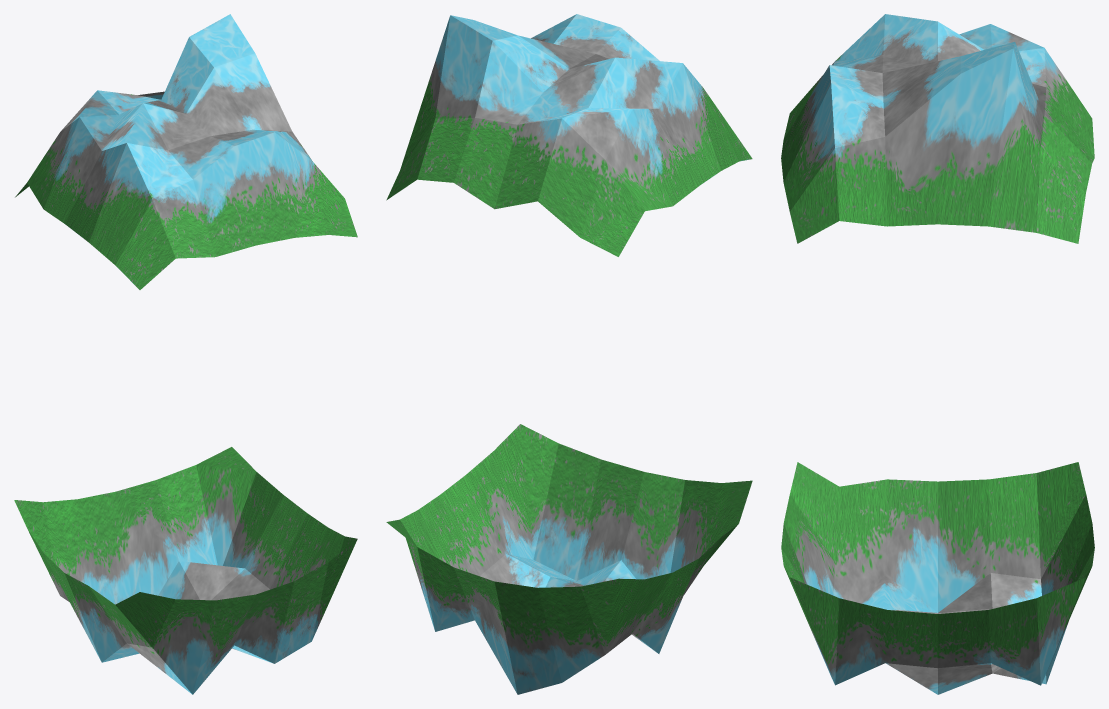
The model's file is Ice.fbx.
3 renders of one model, left to right at view 1: azimuth 30°, elevation 25°; view 2: azimuth 150°, elevation 25°; view 3: azimuth 270°, elevation 25°, orthographic. The views are drawn at different scales.
Parts seen in each view (by area): view 1: Cube; view 2: Cube; view 3: Cube.
Part boxes in pixels (x1=…): Cube: x1=14, y1=14, x2=357, y2=694; Cube: x1=386, y1=14, x2=752, y2=694; Cube: x1=781, y1=14, x2=1094, y2=694.
Bounding box in the file's own units: 94.01 × 224 × 94.05.
